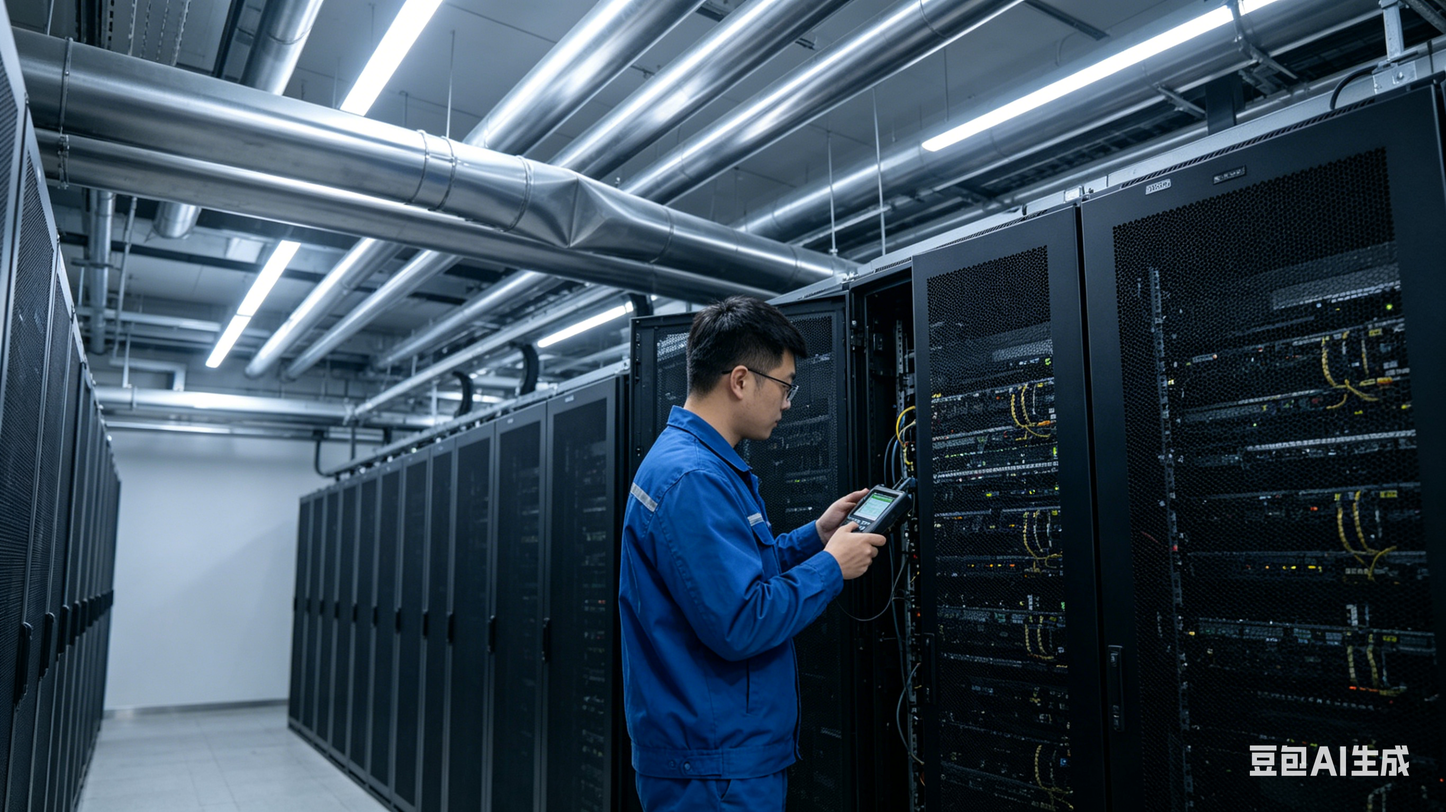Leakage: (542, 172, 607, 245)
